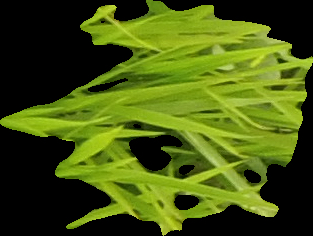grass: (1, 1, 312, 235)
